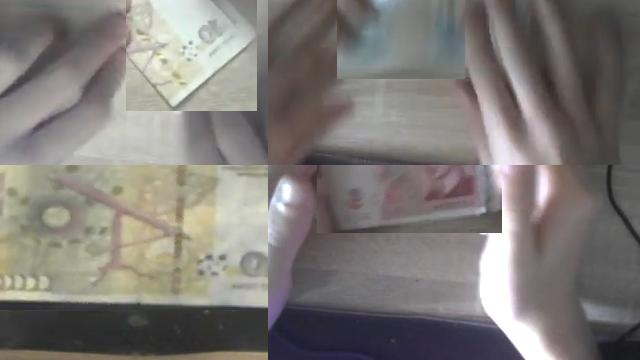10leva: (126, 0, 257, 111)
20leva: (337, 0, 465, 79)
5leva: (318, 165, 502, 233), (317, 165, 496, 233)
